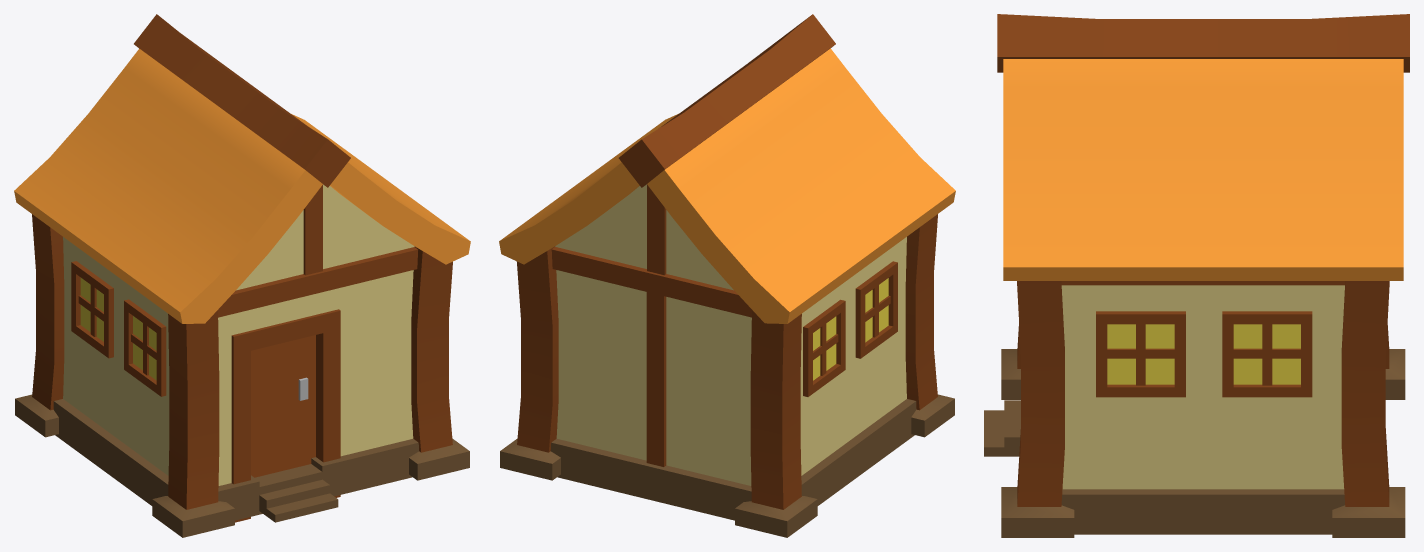
Rendered from house_1 1.fbx.
3 views of the same model, side by side, from view 1: azimuth 30°, elevation 25°; view 2: azimuth 150°, elevation 25°; view 3: azimuth 270°, elevation 25° (orthographic). The views are drawn at different scales.
Parts seen in each view (by area): view 1: polySurface1; view 2: polySurface1; view 3: polySurface1.
Boxes of the visible parts, box(x1,y1,x2,y2) form: polySurface1: box(14, 14, 470, 537); polySurface1: box(499, 14, 955, 537); polySurface1: box(984, 14, 1409, 537).
Size of the model in its own units: 846 by 1041 by 891.
1 material, 1 textured.
